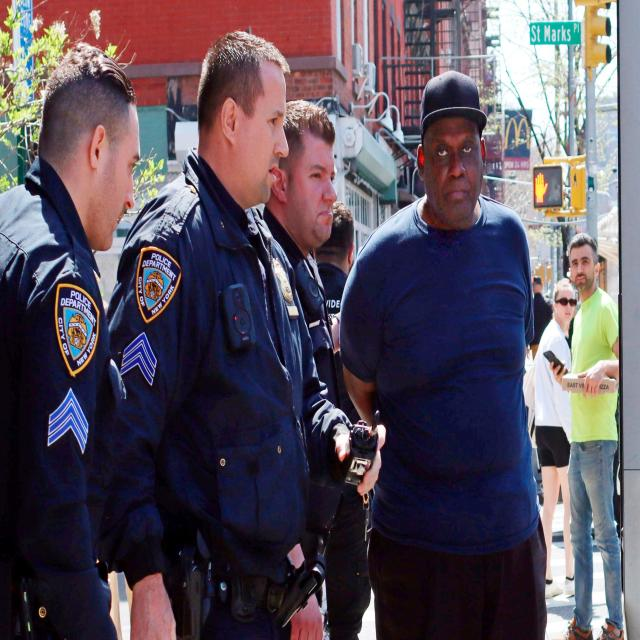police: (131, 21, 312, 640), (5, 30, 136, 640), (274, 76, 382, 640)
